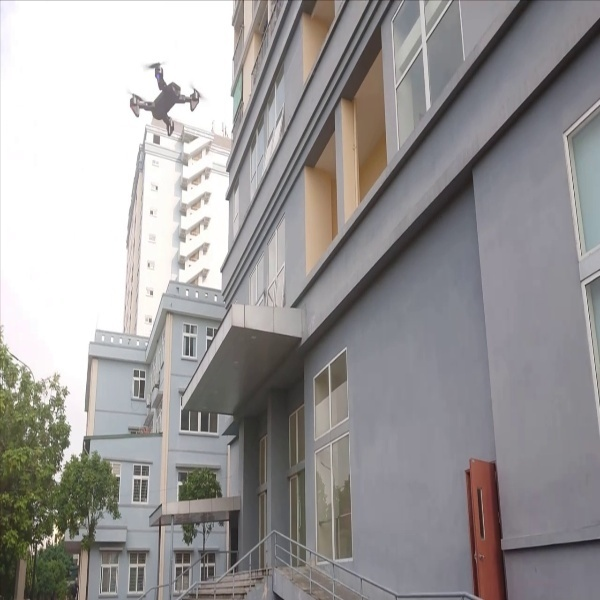drone: (125, 52, 209, 139)
